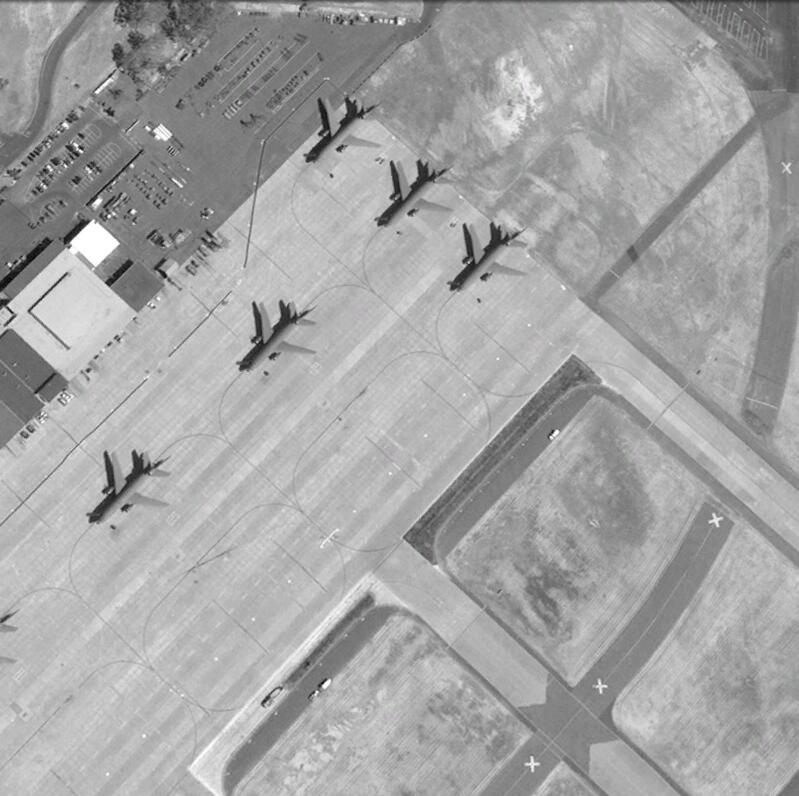A18: (88, 449, 173, 528), (450, 218, 534, 294), (304, 95, 381, 171), (372, 159, 455, 229), (241, 301, 321, 373)
